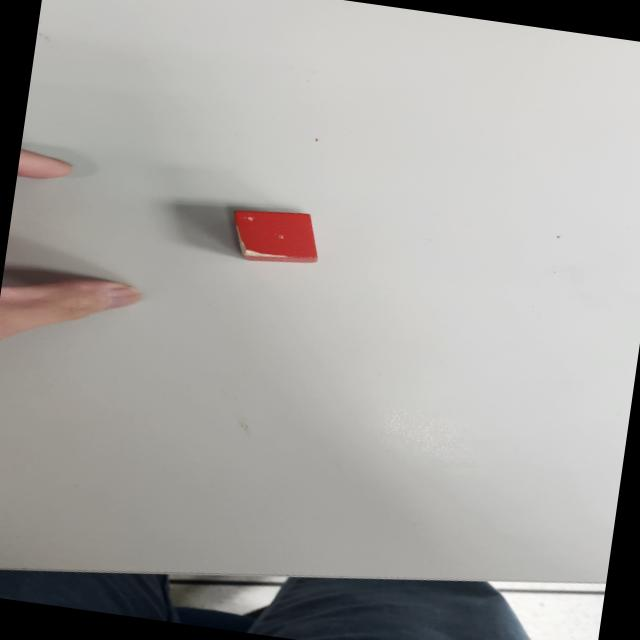broken: (228, 202, 324, 268)
